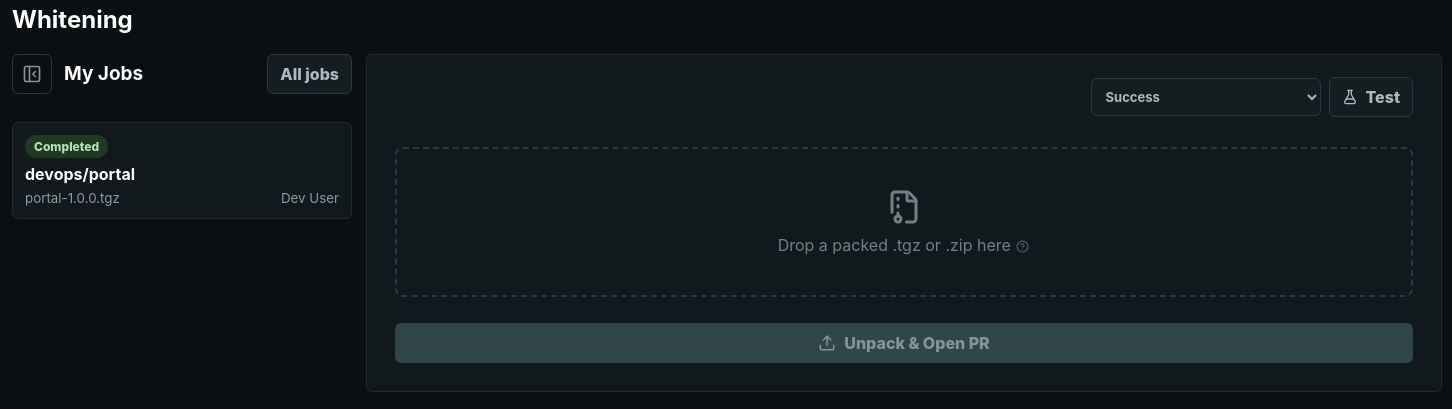
Scenario: WhiteningView job scope › starts on the admin's own jobs and widens when the toggle is flipped
This screenshot has width=1452, height=409.
expect the text "devops/portal" is shown: met, box x1=25 y1=164 x2=135 y2=184
expect the text "payments/checkout" is not shown: met
Click the button "All jobs". click: point(310, 74)
box: x1=267 y1=54 x2=352 y2=94
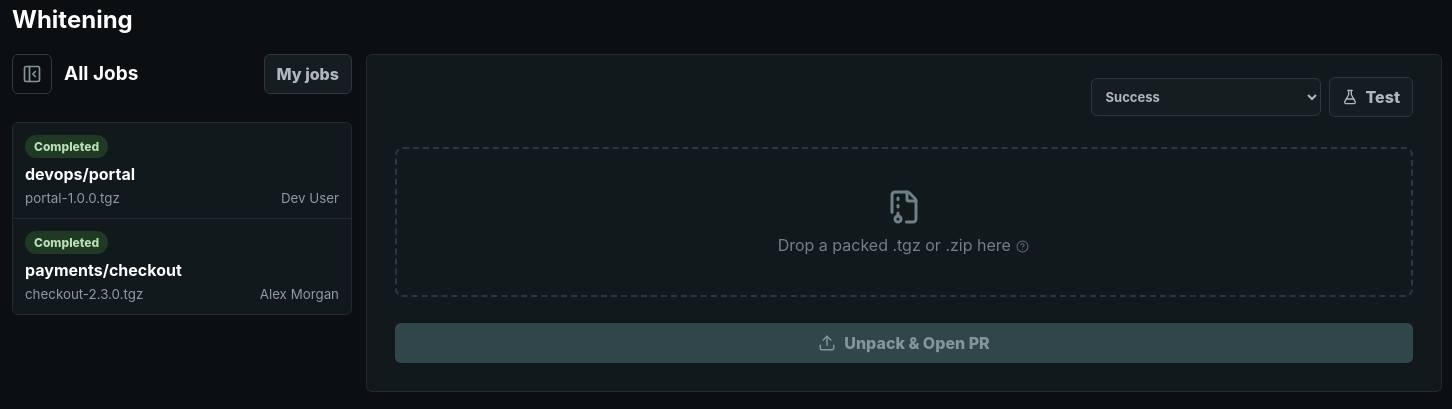
expect the text "payments/checkout" is shown: met, box x1=25 y1=260 x2=182 y2=280
expect the button "My jobs" is shown: met, box x1=264 y1=54 x2=352 y2=94
